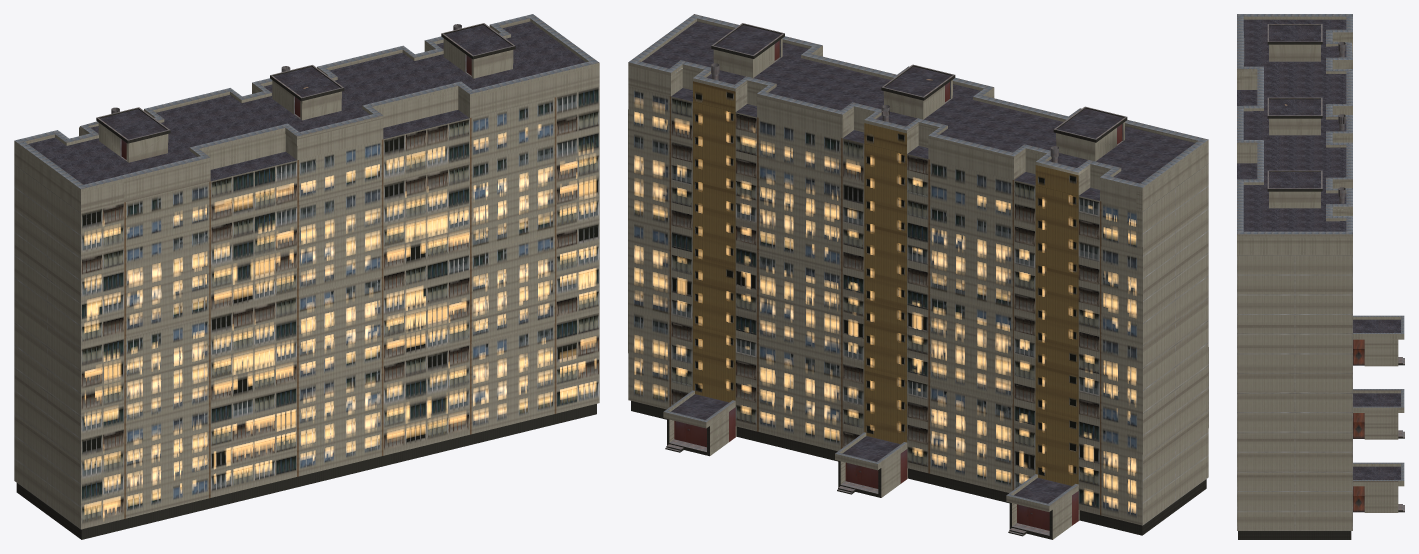
File: sov_p16.glb
The picture shows the model from 3 angles, left to right: view 1: azimuth 30°, elevation 25°; view 2: azimuth 150°, elevation 25°; view 3: azimuth 270°, elevation 25°; orthographic projection. The views are drawn at different scales.
Visible parts, largest first — view 1: panelndom_14a; view 2: panelndom_14a; view 3: panelndom_14a.
Part boxes in pixels (x1=…): panelndom_14a: x1=14, y1=14, x2=599, y2=539; panelndom_14a: x1=628, y1=14, x2=1208, y2=539; panelndom_14a: x1=1237, y1=14, x2=1404, y2=539.
Size of the model in its own units: 72.03 by 49.31 by 23.19.
1 material, 1 textured.
